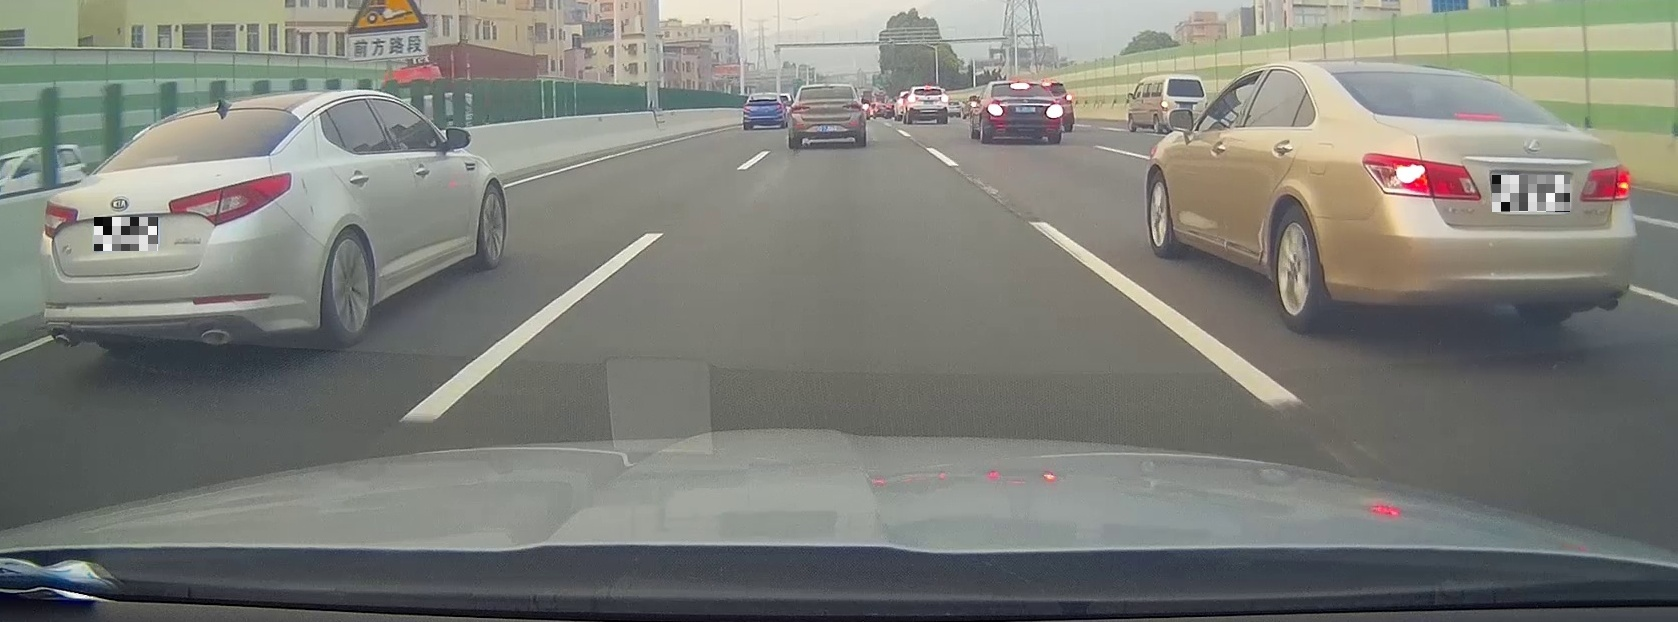L_light: (1361, 152, 1481, 201), (43, 199, 79, 238), (987, 103, 1003, 117), (791, 104, 810, 112), (907, 96, 916, 103)
R_light: (168, 172, 292, 227), (1578, 163, 1632, 201), (1046, 103, 1063, 118), (842, 101, 863, 111), (941, 95, 948, 103)
T_light: (141, 156, 178, 167), (1454, 113, 1504, 121), (1010, 84, 1029, 87), (821, 87, 834, 89), (924, 89, 931, 90)
day-brake: (983, 81, 1063, 145), (907, 86, 949, 124)
day-left: (1316, 60, 1638, 334)
day-no: (39, 89, 319, 351), (789, 84, 866, 148)
plate_1: (94, 217, 158, 251)
plate_2: (1492, 175, 1570, 212)
